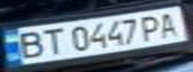0: (66, 22, 90, 52)
4: (87, 19, 109, 49), (106, 17, 127, 48)
7: (121, 16, 142, 44)
A: (154, 9, 187, 39)
B: (9, 28, 48, 61)
P: (136, 12, 166, 42)
T: (36, 25, 66, 56)
